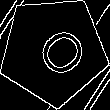O_SW: (21, 17, 87, 84)
